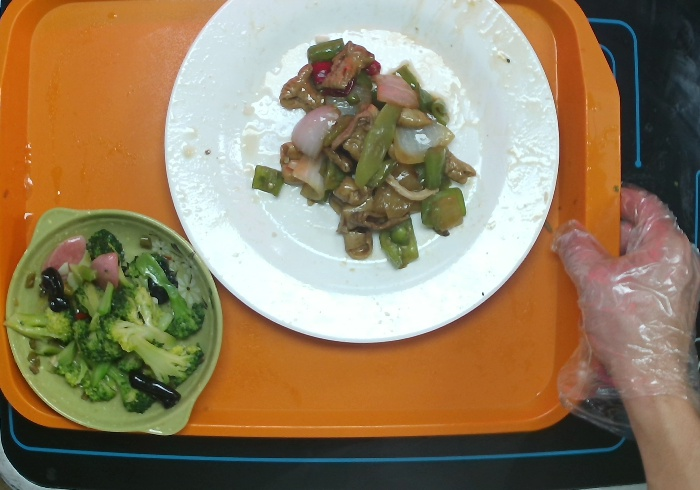NLDX-Da_Yuan_Pan: (164, 1, 560, 349)
NLDX-Lv_Hua_Shuang_Er_Die: (2, 197, 236, 444)
